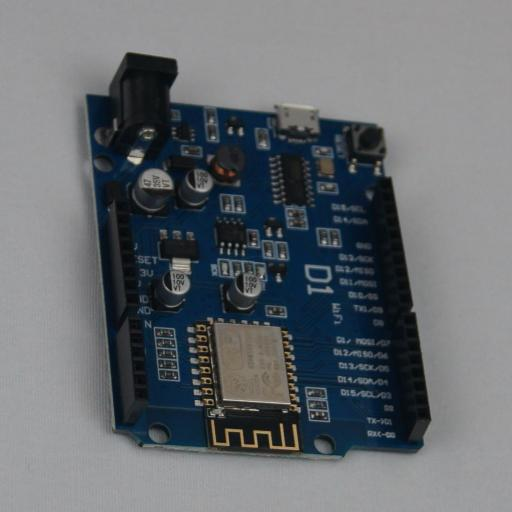Arduino Uno WiFi Shield: (86, 52, 431, 460)
